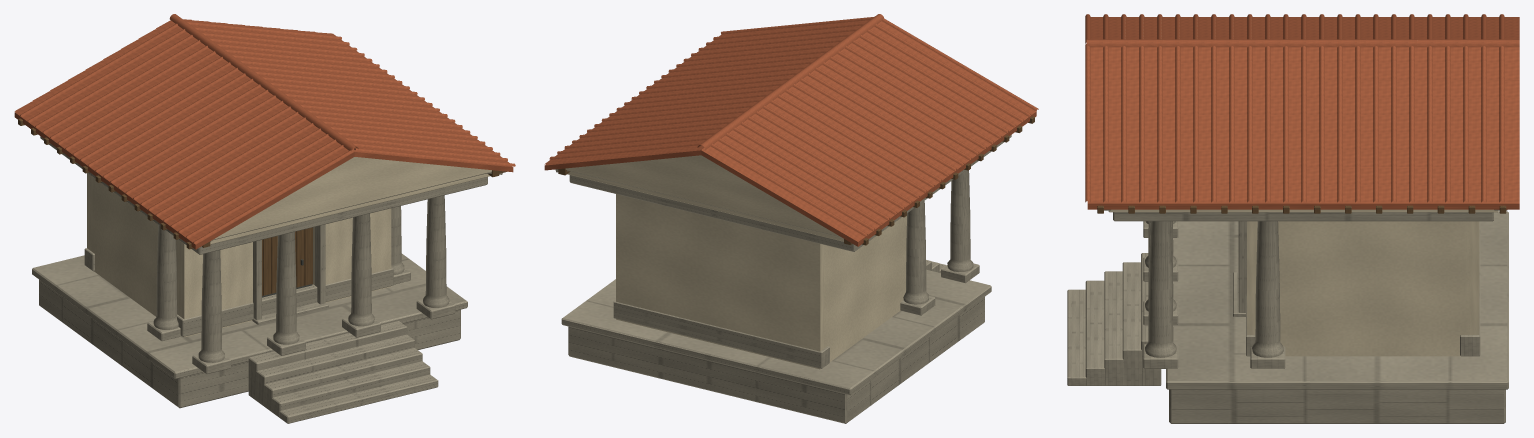
The model's file is small-temple.glb.
3 renders of one model, left to right at view 1: azimuth 30°, elevation 25°; view 2: azimuth 150°, elevation 25°; view 3: azimuth 270°, elevation 25°, orthographic. The views are drawn at different scales.
Visible parts, largest first — view 1: small-temple; view 2: small-temple; view 3: small-temple.
Part boxes in pixels (box(x1,y1,x2,y2)): small-temple: box(14, 14, 515, 423); small-temple: box(544, 14, 1038, 423); small-temple: box(1067, 14, 1519, 423).
Bounding box in the file's own units: 7.48 × 5.61 × 7.6.
Materials: 1 (1 with a texture image).
